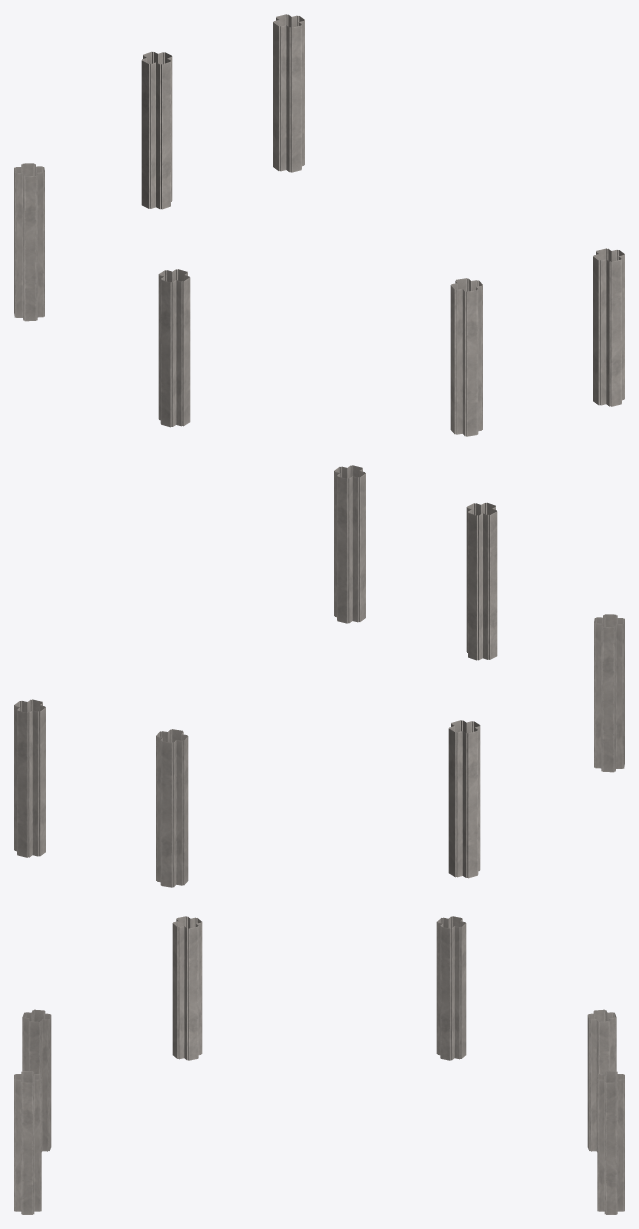
File: Ambulatory_Outer_Post_B.fbx
3 renders of one model, top to bottom at view 1: azimuth 30°, elevation 25°; view 2: azimuth 150°, elevation 25°; view 3: azimuth 270°, elevation 25°, orthographic. The views are drawn at different scales.
Parts seen in each view (by area): view 1: Ambulatory_Outer_Post_B; view 2: Ambulatory_Outer_Post_B; view 3: Ambulatory_Outer_Post_B.
Boxes of the visible parts, x1,y1,x2,y2 form: Ambulatory_Outer_Post_B: [14, 14, 624, 436]; Ambulatory_Outer_Post_B: [14, 465, 624, 887]; Ambulatory_Outer_Post_B: [14, 916, 624, 1214].
Bounding box in the file's own units: 16.21 × 25.14 × 6.
